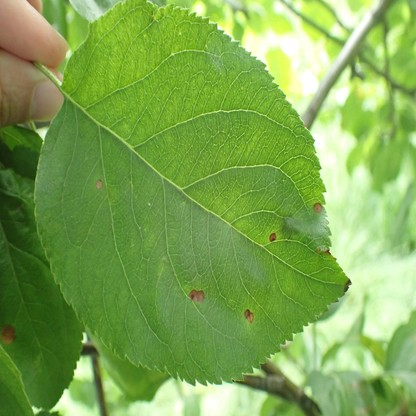frogeye_leaf_spot: (1, 324, 15, 344), (188, 288, 205, 302), (244, 308, 254, 323), (312, 202, 322, 212), (95, 180, 103, 191), (269, 232, 276, 241)
